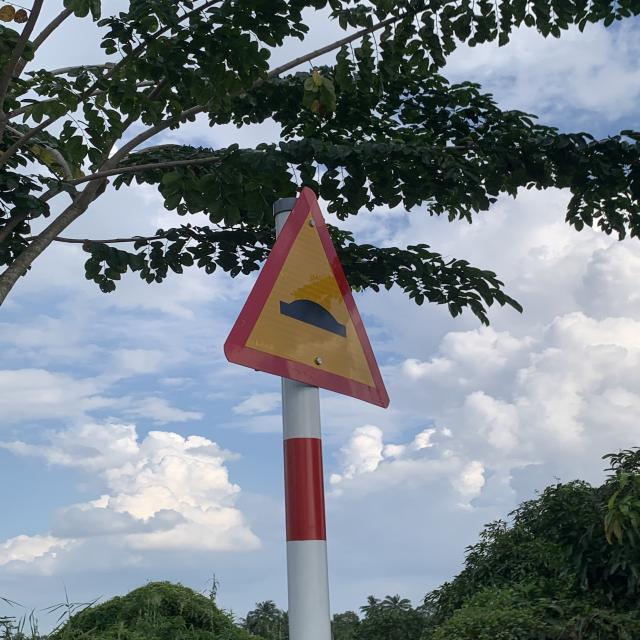Duong_Cong_Ben_Phai: (220, 186, 391, 408)
